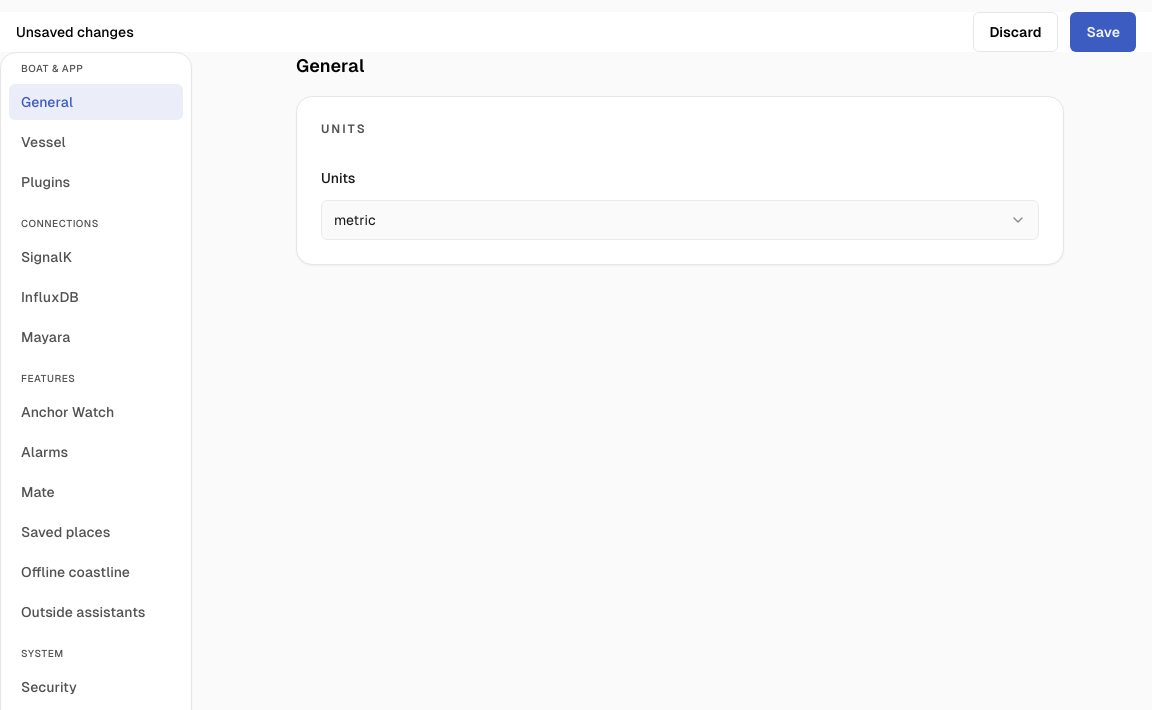
Test: SettingsPage Save bar › combines secrets save failures into the bar
Click the button "Save".
click(1103, 32)  # box [1070,12,1136,52]
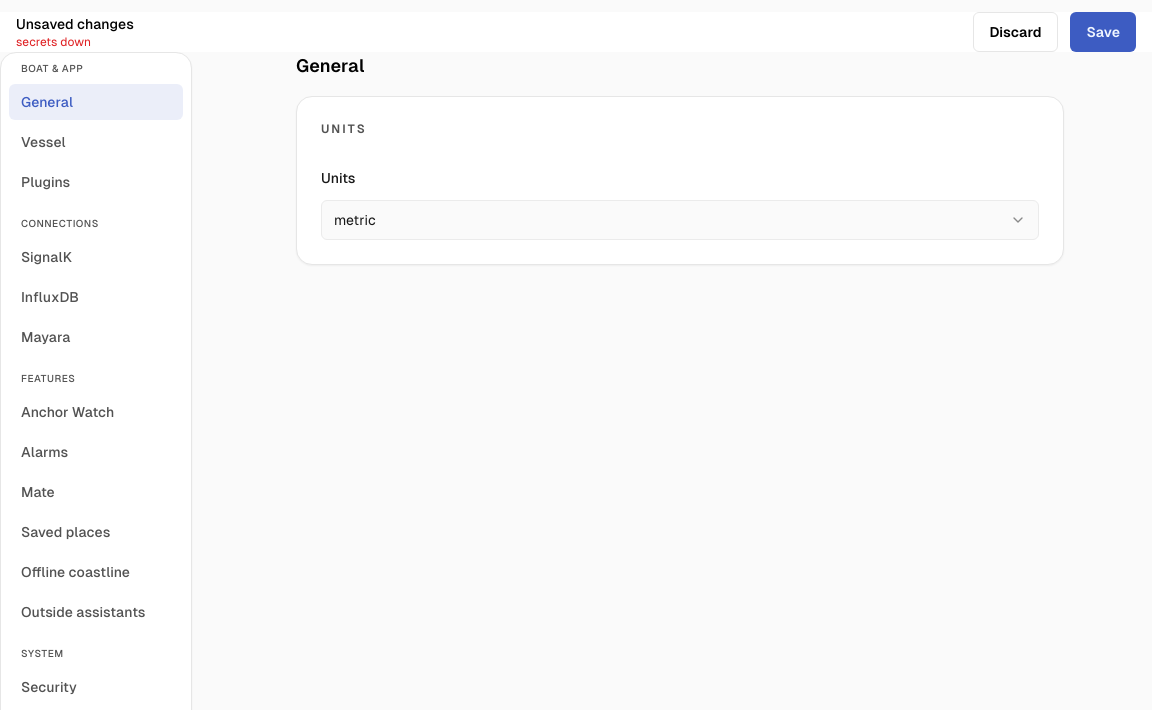
Expected: the message reads "secrets down", [16,35,91,49]
